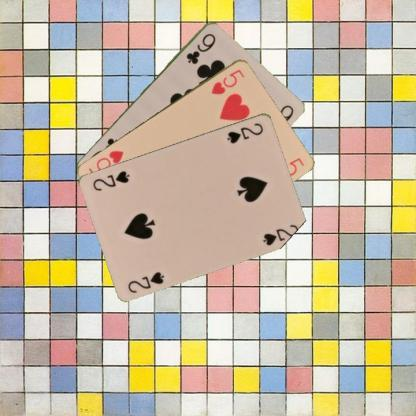2s: (224, 120, 265, 145), (125, 269, 166, 294)
5h: (208, 66, 245, 96)
9c: (184, 30, 217, 65)
